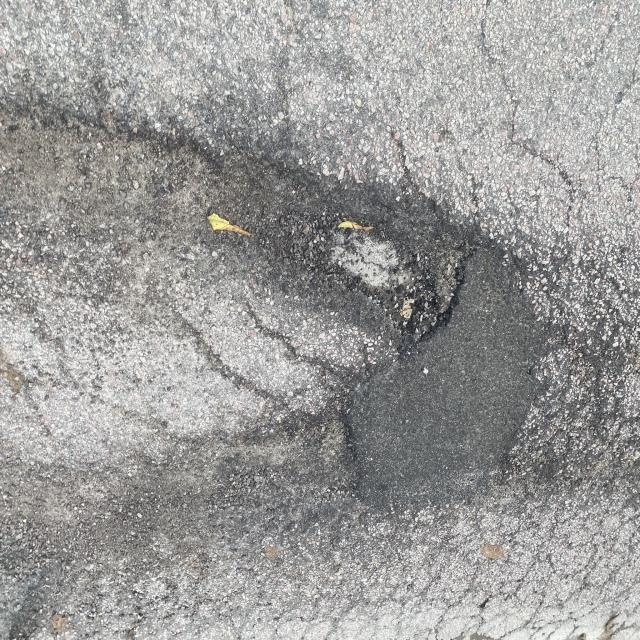Pothole: (0, 75, 573, 408)
